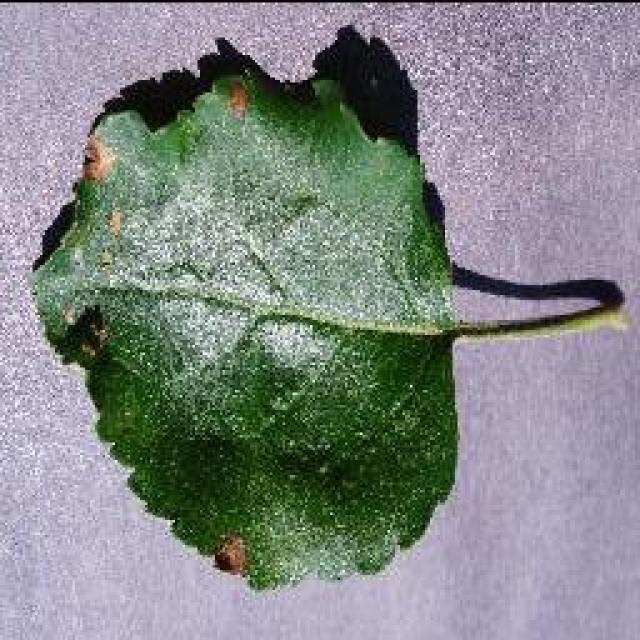Black_rot: (28, 25, 628, 590)
